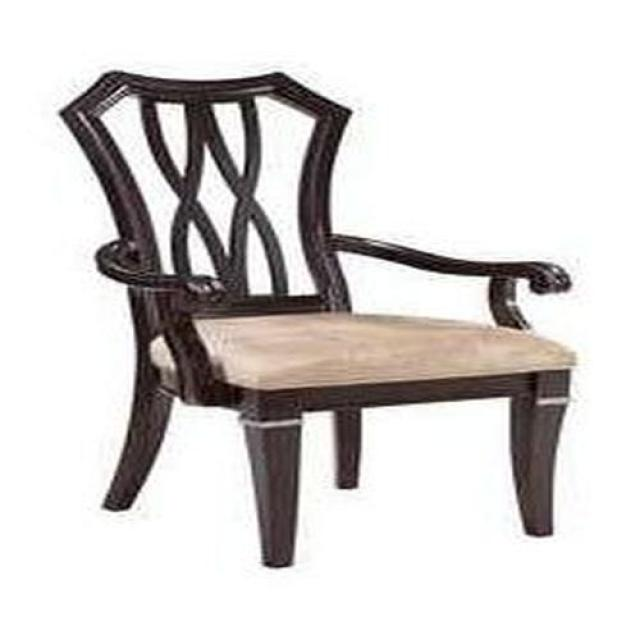chair: (69, 73, 579, 570)
